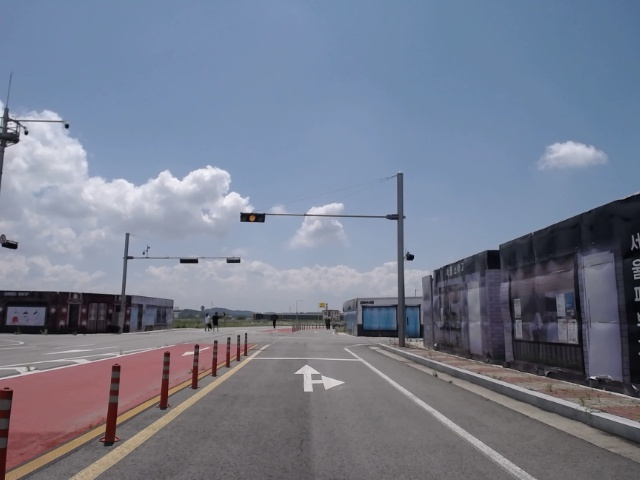orange_3: (240, 213, 265, 222)
